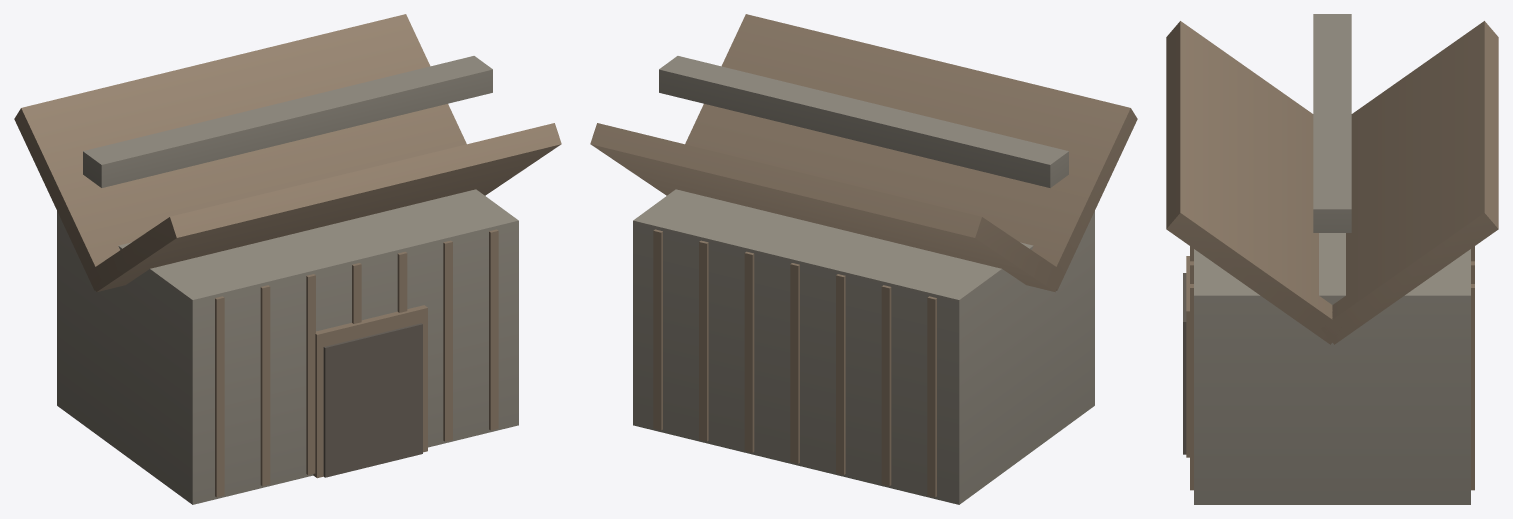
The model's file is barn.glb.
3 renders of one model, left to right at view 1: azimuth 30°, elevation 25°; view 2: azimuth 150°, elevation 25°; view 3: azimuth 270°, elevation 25°, orthographic. The views are drawn at different scales.
Visible parts, largest first — view 1: barn; view 2: barn; view 3: barn.
Boxes of the visible parts, box(x1,y1,x2,y2) form: barn: box(14, 14, 561, 504); barn: box(590, 14, 1137, 504); barn: box(1166, 14, 1498, 504).
Size of the model in its own units: 6 by 4.47 by 4.32.
